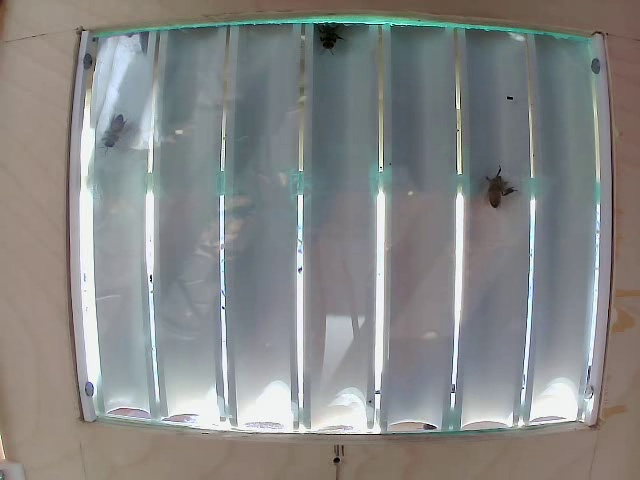bee: (470, 175, 510, 208), (322, 24, 354, 63)
